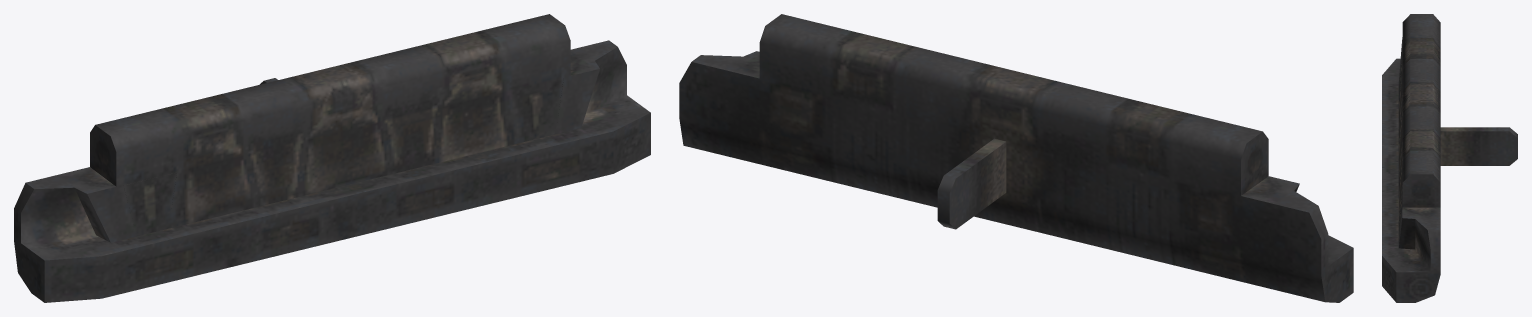
3 renders of one model, left to right at view 1: azimuth 30°, elevation 25°; view 2: azimuth 150°, elevation 25°; view 3: azimuth 270°, elevation 25°, orthographic. The views are drawn at different scales.
Visible parts, largest first — view 1: set_0_group_0; view 2: set_0_group_0; view 3: set_0_group_0.
Boxes of the visible parts, x1,y1,x2,y2 form: set_0_group_0: [14, 14, 650, 302]; set_0_group_0: [679, 14, 1353, 302]; set_0_group_0: [1382, 14, 1517, 302].
Size of the model in its own units: 0.6203 by 0.1379 by 0.1664.
1 material, 1 textured.
